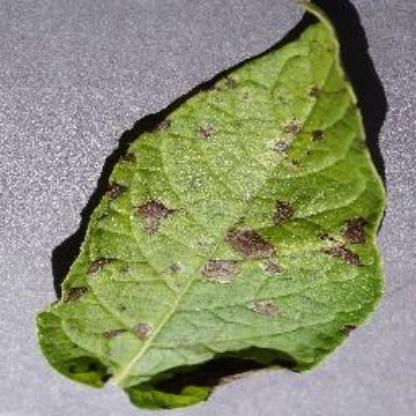Early-Blight: (36, 4, 394, 410)
